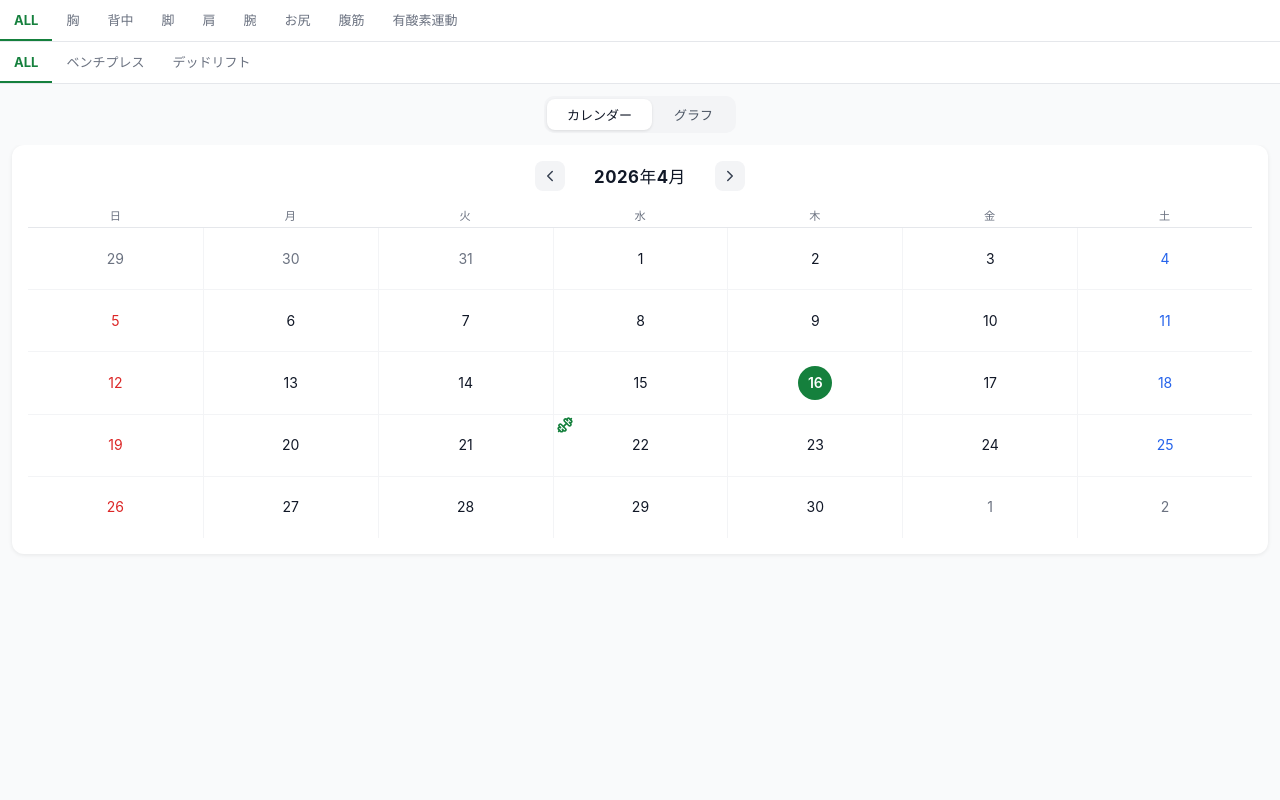
HistoryPage — カレンダー日付クリック × CalendarDayPopup › records に記録がある日付をクリックするとポップアップが表示される
The width and height of the screenshot is (1280, 800).
Expected: the button "カレンダー" is shown, x1=547 y1=99 x2=652 y2=130
// 22日のセル（記録あり）をクリック
Click the button "22". click: x=640, y=445
box: x1=553 y1=414 x2=728 y2=476
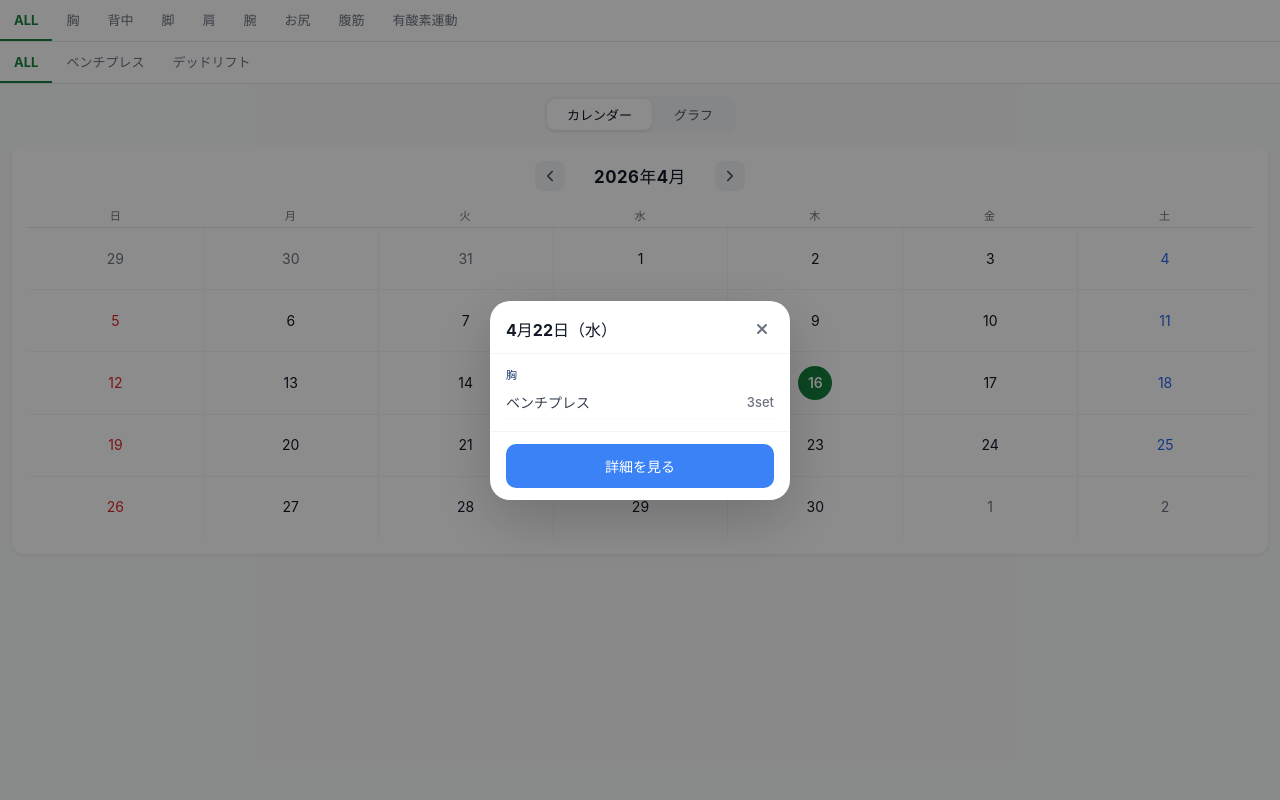
Expected: the element with test id "popup-overlay" is shown
